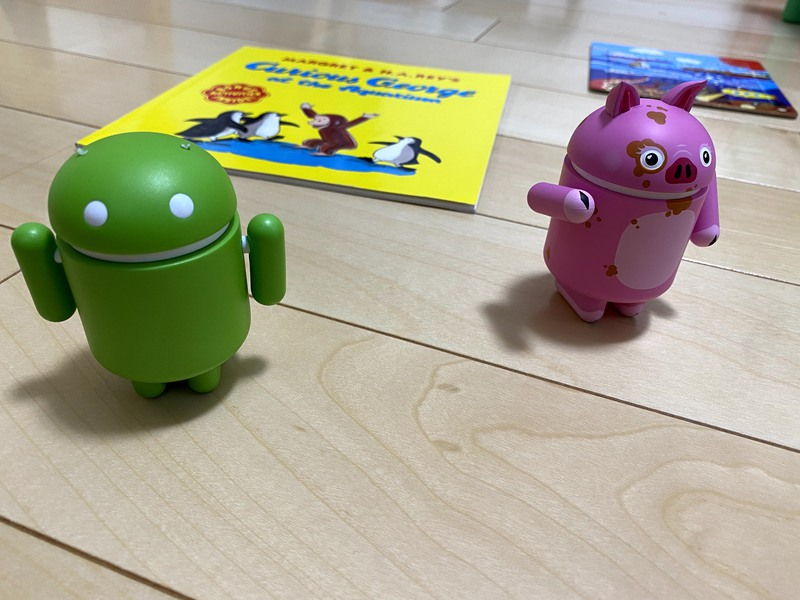android: (7, 122, 296, 402)
pig_android: (523, 69, 723, 329)
